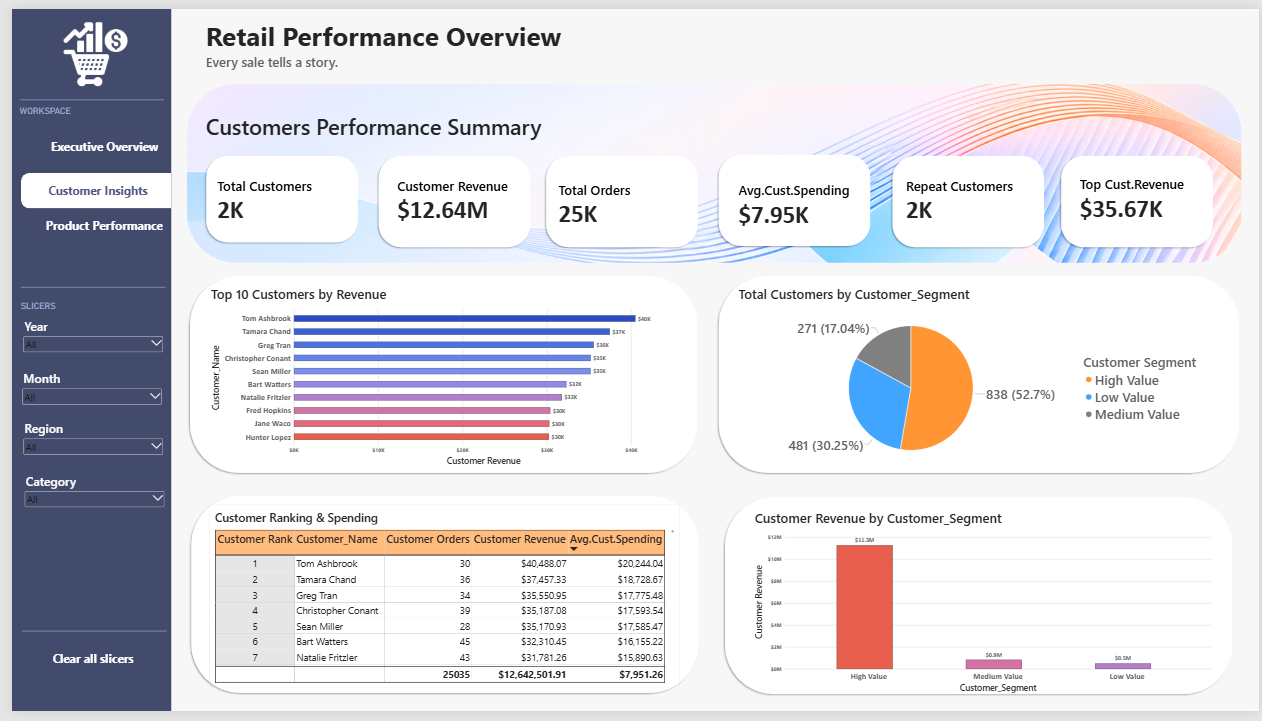

What the dashboard file says about the page in this screenshot:
{"tool":"powerbi","page":{"name":"Page 1","canvas":[3840,2160],"ordinal":0},"visuals":[{"type":"shape","box":[0,0,490,2160],"z":0},{"type":"shape","box":[25,755,445,205],"z":1000},{"type":"shape","box":[540,230,3245,550],"z":2000},{"type":"shape","box":[22.5,175,445,205],"z":3000},{"type":"image","box":[540,230,3245,550],"z":4000},{"type":"slicer","fields":{"Values":["DimDate.Year"]},"box":[30,951.4,438.6,128.6],"z":5000},{"type":"shape","box":[540,815,1065,625],"z":6000},{"type":"slicer","fields":{"Values":["DimDate.Month"]},"box":[27.5,1110,438.6,128.6],"z":7000},{"type":"shape","box":[1635,815,1065,625],"z":8000},{"type":"slicer","fields":{"Values":["FactSales.Region"]},"box":[32.5,1265,438.6,128.6],"z":9000},{"type":"shape","box":[2738,816,1065,625],"z":10000},{"type":"slicer","fields":{"Values":["DimProduct_Fixed.Category"]},"box":[35,1427.5,438.6,128.6],"z":11000},{"type":"shape","box":[540,1485,1065,625],"z":12000},{"type":"shape","box":[30,1810,445,205],"z":13000},{"type":"shape","box":[1635,1485,1065,625],"z":14000},{"type":"actionButton","box":[35,1965,430,50],"z":15000},{"type":"shape","box":[2738,1485,1065,625],"z":16000},{"type":"shape","box":[590,445,485,285],"z":17000,"group":"g1"},{"type":"shape","box":[1120,445,485,300],"z":18000,"group":"g1"},{"type":"shape","box":[1635,445,485,300],"z":19000,"group":"g1"},{"type":"shape","box":[2165,440,485,300],"z":20000,"group":"g1"},{"type":"shape","box":[2700,445,485,300],"z":21000,"group":"g1"},{"type":"shape","box":[3220,445,485,300],"z":22000,"group":"g1"},{"type":"cardVisual","fields":{"Data":["FactSales.Total Revenue"]},"box":[617.1,480,383.3,230],"z":23000,"group":"g1"},{"type":"cardVisual","fields":{"Data":["FactSales.Total Profit"]},"box":[1170,480,390,230],"z":24000,"group":"g1"},{"type":"cardVisual","fields":{"Data":["FactSales.Total Orders"]},"box":[1667.5,482.5,295,230],"z":25000,"group":"g1"},{"type":"cardVisual","fields":{"Data":["FactSales.Total Customers"]},"box":[2220,480,395,230],"z":26000,"group":"g1"},{"type":"cardVisual","fields":{"Data":["FactSales.AOV"]},"box":[2737.5,480,380,230],"z":27000,"group":"g1"},{"type":"cardVisual","fields":{"Data":["FactSales.Profit Margin %"]},"box":[3270,480,380,230],"z":28000,"group":"g1"},{"type":"areaChart","fields":{"Category":["DimDate.Month"],"Y":["FactSales.Total Revenue"]},"box":[595,855,965,568.3],"z":29000},{"type":"areaChart","fields":{"Category":["DimDate.Month"],"Y":["FactSales.Total Profit"]},"box":[2803.3,856.7,935,570],"z":30000},{"type":"clusteredColumnChart","fields":{"Category":["DimProduct_Fixed.Category"],"Y":["FactSales.Total Revenue"]},"box":[1704,856,912,568],"z":31000},{"type":"clusteredBarChart","fields":{"Category":["FactSales.Region"],"Y":["FactSales.Total Revenue"]},"box":[595,1508.3,965,585],"z":32000},{"type":"columnChart","fields":{"Category":["DimProduct_Fixed.Product_Name"],"Y":["FactSales.Total Revenue"]},"box":[1687.5,1507.5,995,602.5],"z":33000},{"type":"lineClusteredColumnComboChart","fields":{"Category":["DimProduct_Fixed.Category"],"Y":["FactSales.Total Revenue","FactSales.Total Profit"]},"box":[2817.5,1507.5,920,577.5],"z":34000},{"type":"textbox","title":"Retail Performance Overview","box":[595,25,1110,205],"z":35000},{"type":"textbox","title":"Retail Performance Summary","box":[595,315,930,130],"z":36000},{"type":"shape","box":[25,375,465,110],"z":37000},{"type":"actionButton","box":[100,380,370,90],"z":38000},{"type":"actionButton","box":[45,445,445,230],"z":39000},{"type":"actionButton","box":[62.5,550,445,230],"z":40000},{"type":"textbox","title":"WORKSPACE","box":[24,298,270,38],"z":41000},{"type":"textbox","title":"SLICERS","box":[25,897.5,270,38],"z":42000},{"type":"group","id":"g1","title":"Group 1","box":[590,440,3115,305],"z":42001},{"type":"image","box":[85,25,345,225],"z":42002}]}

Visuals, with their boxes on the page's 3840x2160 design canvas (x1, y1, x2, y2). These are canvas units, not pixel positions in the 1262x721 screenshot, which may show the page scaled, cropped or inside an application window:
shape: l=0, t=0, r=490, b=2160
shape: l=25, t=755, r=470, b=960
shape: l=540, t=230, r=3785, b=780
shape: l=22, t=175, r=468, b=380
image: l=540, t=230, r=3785, b=780
slicer - DimDate.Year: l=30, t=951, r=469, b=1080
shape: l=540, t=815, r=1605, b=1440
slicer - DimDate.Month: l=28, t=1110, r=466, b=1239
shape: l=1635, t=815, r=2700, b=1440
slicer - FactSales.Region: l=32, t=1265, r=471, b=1394
shape: l=2738, t=816, r=3803, b=1441
slicer - DimProduct_Fixed.Category: l=35, t=1428, r=474, b=1556
shape: l=540, t=1485, r=1605, b=2110
shape: l=30, t=1810, r=475, b=2015
shape: l=1635, t=1485, r=2700, b=2110
actionButton: l=35, t=1965, r=465, b=2015
shape: l=2738, t=1485, r=3803, b=2110
shape: l=590, t=445, r=1075, b=730
shape: l=1120, t=445, r=1605, b=745
shape: l=1635, t=445, r=2120, b=745
shape: l=2165, t=440, r=2650, b=740
shape: l=2700, t=445, r=3185, b=745
shape: l=3220, t=445, r=3705, b=745
cardVisual - FactSales.Total Revenue: l=617, t=480, r=1000, b=710
cardVisual - FactSales.Total Profit: l=1170, t=480, r=1560, b=710
cardVisual - FactSales.Total Orders: l=1668, t=482, r=1962, b=712
cardVisual - FactSales.Total Customers: l=2220, t=480, r=2615, b=710
cardVisual - FactSales.AOV: l=2738, t=480, r=3118, b=710
cardVisual - FactSales.Profit Margin %: l=3270, t=480, r=3650, b=710
areaChart - DimDate.Month x FactSales.Total Revenue: l=595, t=855, r=1560, b=1423
areaChart - DimDate.Month x FactSales.Total Profit: l=2803, t=857, r=3738, b=1427
clusteredColumnChart - DimProduct_Fixed.Category x FactSales.Total Revenue: l=1704, t=856, r=2616, b=1424
clusteredBarChart - FactSales.Region x FactSales.Total Revenue: l=595, t=1508, r=1560, b=2093
columnChart - DimProduct_Fixed.Product_Name x FactSales.Total Revenue: l=1688, t=1508, r=2682, b=2110
lineClusteredColumnComboChart - DimProduct_Fixed.Category x FactSales.Total Revenue: l=2818, t=1508, r=3738, b=2085
"Retail Performance Overview" textbox: l=595, t=25, r=1705, b=230
"Retail Performance Summary" textbox: l=595, t=315, r=1525, b=445
shape: l=25, t=375, r=490, b=485
actionButton: l=100, t=380, r=470, b=470
actionButton: l=45, t=445, r=490, b=675
actionButton: l=62, t=550, r=508, b=780
"WORKSPACE" textbox: l=24, t=298, r=294, b=336
"SLICERS" textbox: l=25, t=898, r=295, b=936
"Group 1" group: l=590, t=440, r=3705, b=745
image: l=85, t=25, r=430, b=250
